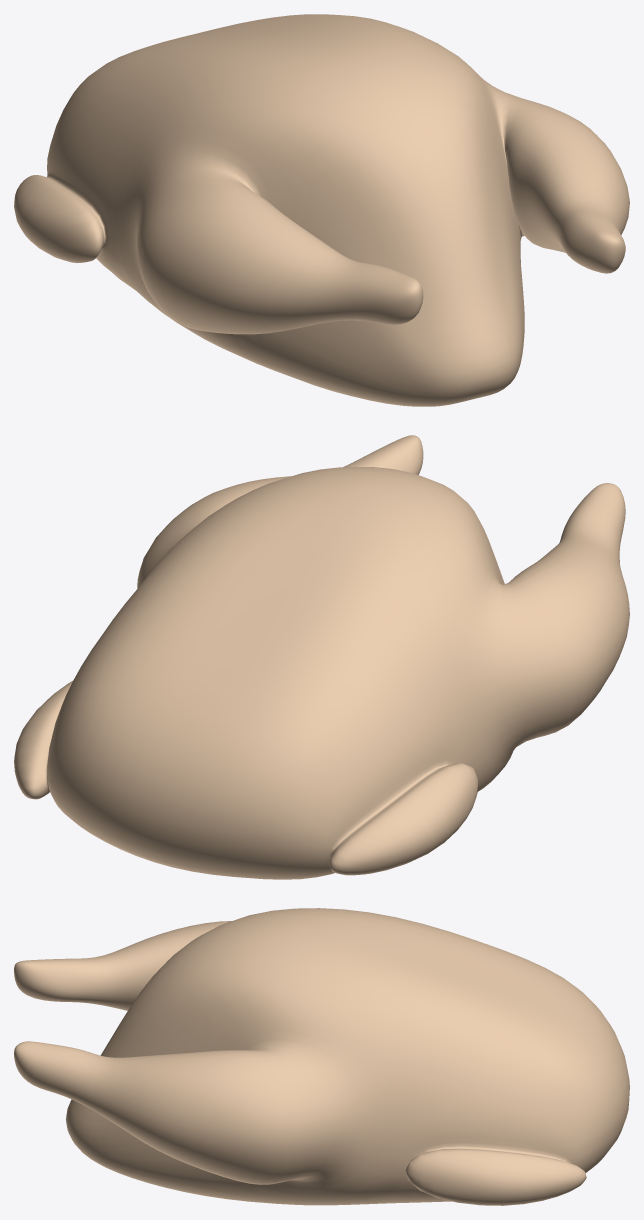
The model's file is Chicken.glb.
3 renders of one model, top to bottom at view 1: azimuth 30°, elevation 25°; view 2: azimuth 150°, elevation 25°; view 3: azimuth 270°, elevation 25°, orthographic. The views are drawn at different scales.
Visible parts, largest first — view 1: Chicken; view 2: Chicken; view 3: Chicken.
Boxes of the visible parts, box(x1,y1,x2,y2) form: Chicken: box(14, 14, 629, 406); Chicken: box(14, 435, 629, 879); Chicken: box(14, 908, 629, 1205).
Bounding box in the file's own units: 1.14 × 0.6986 × 1.6.
